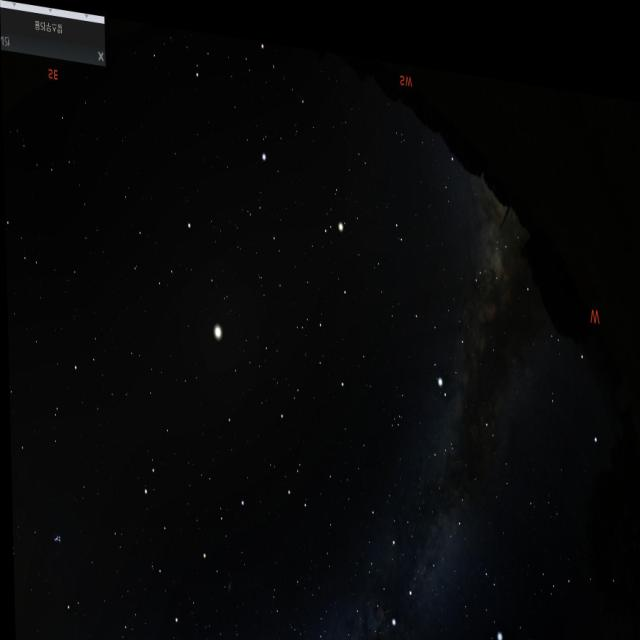aquila: (404, 231, 500, 392)
cygnus: (378, 485, 462, 640)
lyra: (473, 540, 504, 630)
pleiades: (45, 522, 62, 561)
